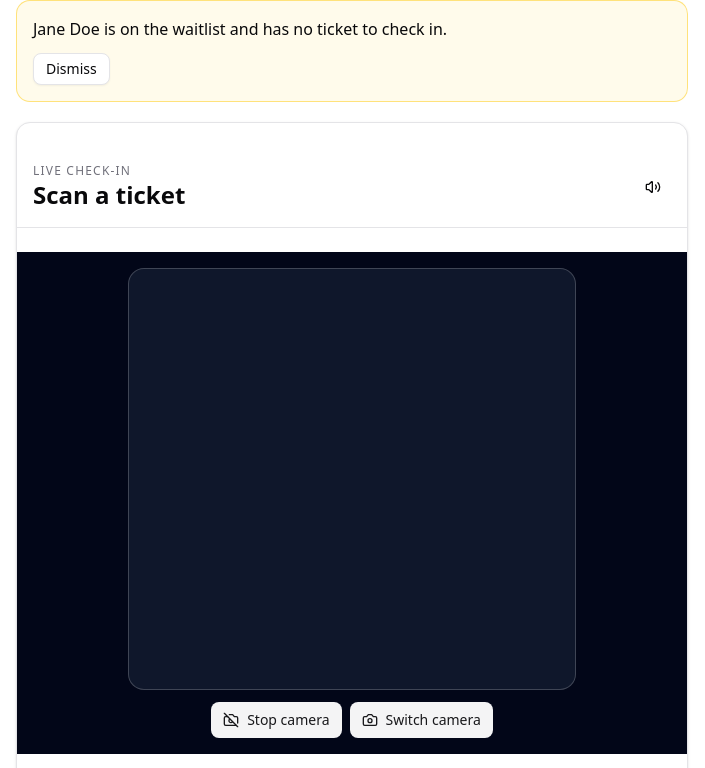
Test: check-in scanner › submit_waitlisted_outcomeRemainsUntilDismissed
The image size is (705, 768).
Expected: the message shows "on the waitlist", [33, 18, 447, 40]
What coordinates should you click on to do the following:
click the button "Dismiss"
I would click on:
 (71, 69)
Its box is [33, 53, 110, 85].
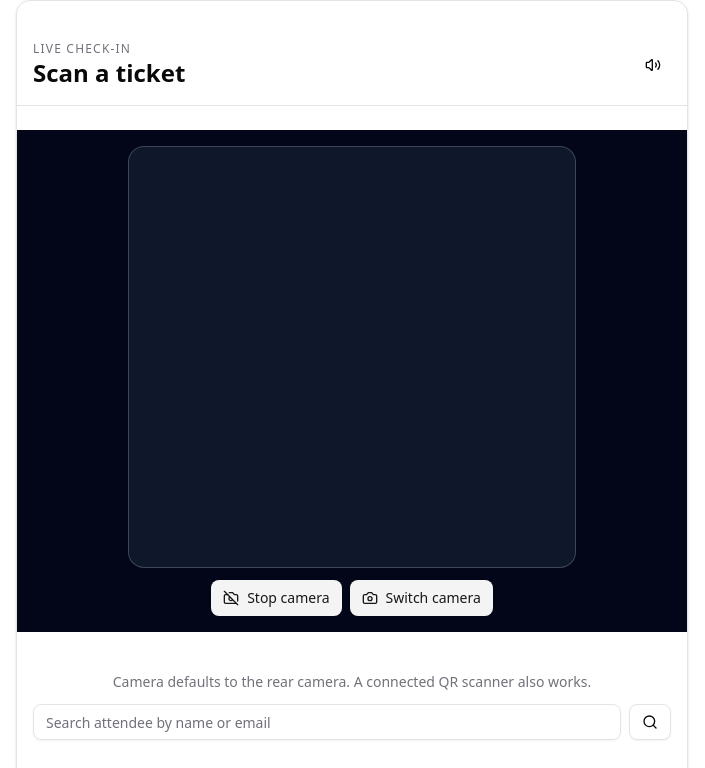
Result: the message "Jane Doe is on the waitlist and has no ticket to check in. Dismiss" is gone
